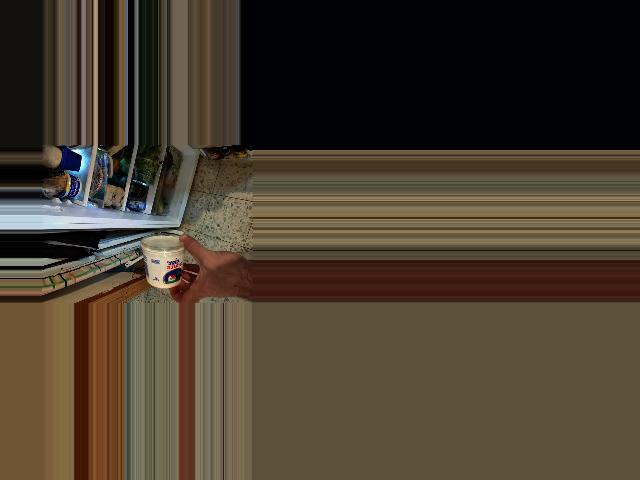cotage: (146, 238, 188, 285)
